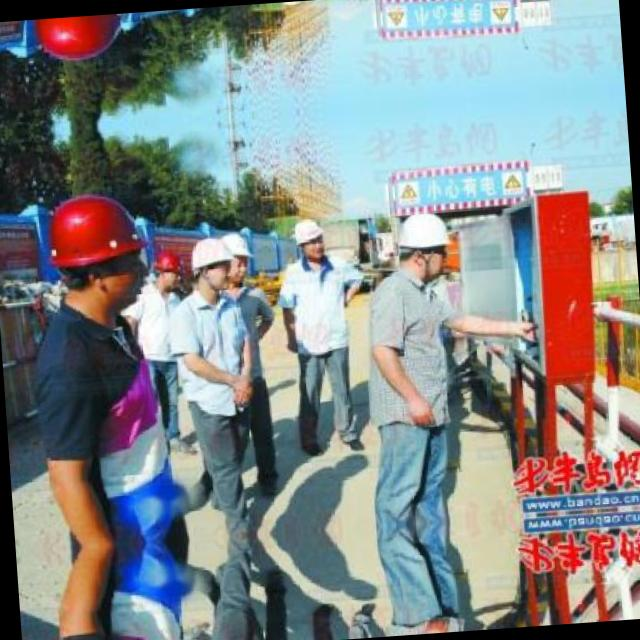helmet: (45, 185, 150, 308), (33, 12, 134, 66), (392, 207, 450, 277), (188, 233, 235, 293), (146, 247, 184, 294), (220, 230, 253, 284), (294, 213, 326, 259)
